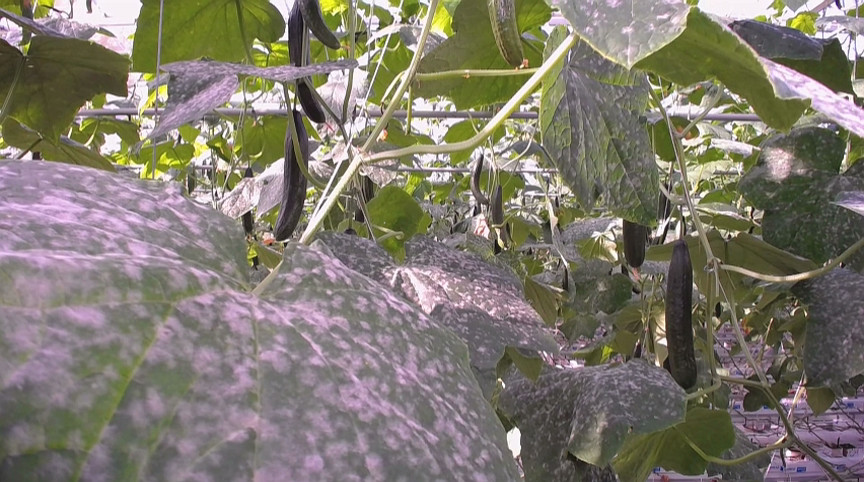cucumber: (665, 241, 698, 387), (272, 111, 305, 241), (291, 2, 326, 124), (487, 1, 524, 68), (299, 1, 340, 50), (623, 219, 646, 267), (470, 155, 489, 207)
